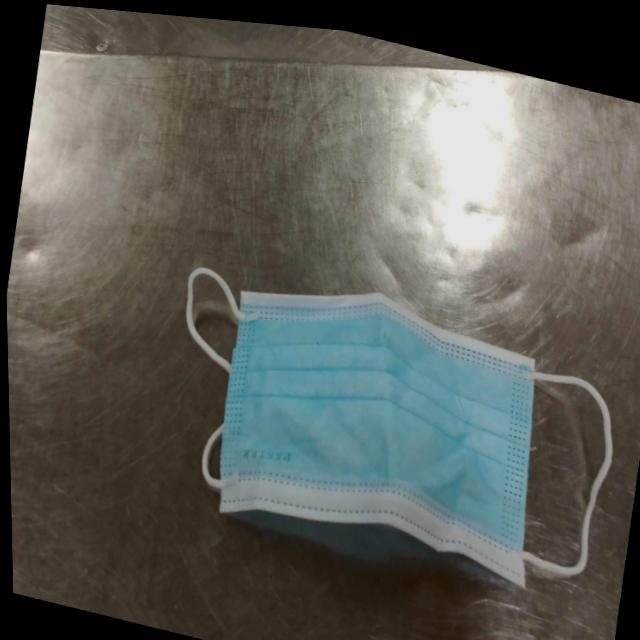Infectious: (184, 266, 613, 589)
